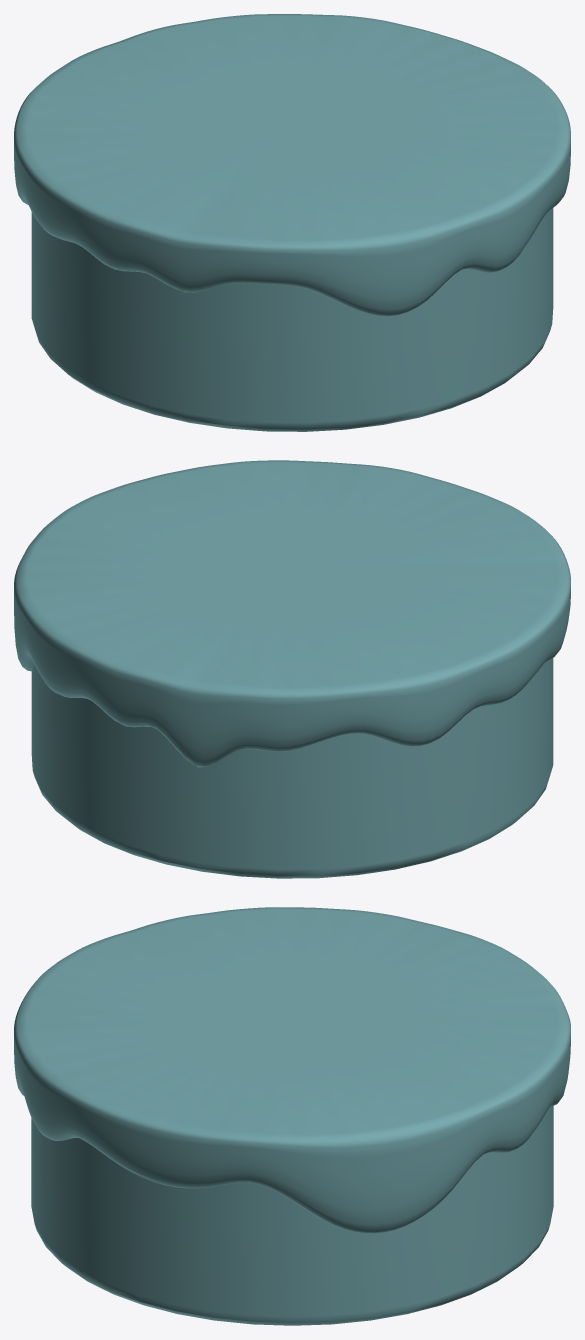
The model's file is SM_CAKE_2.fbx.
The picture shows the model from 3 angles, top to bottom: view 1: azimuth 30°, elevation 25°; view 2: azimuth 150°, elevation 25°; view 3: azimuth 270°, elevation 25°; orthographic projection.
Visible parts, largest first — view 1: SM_CAKE_2; view 2: SM_CAKE_2; view 3: SM_CAKE_2.
Part boxes in pixels (left/top/right/bottom): SM_CAKE_2: left=14, top=14, right=570, bottom=431; SM_CAKE_2: left=14, top=460, right=570, bottom=878; SM_CAKE_2: left=14, top=907, right=570, bottom=1325.
Size of the model in its own units: 35.84 by 14.23 by 35.84.
